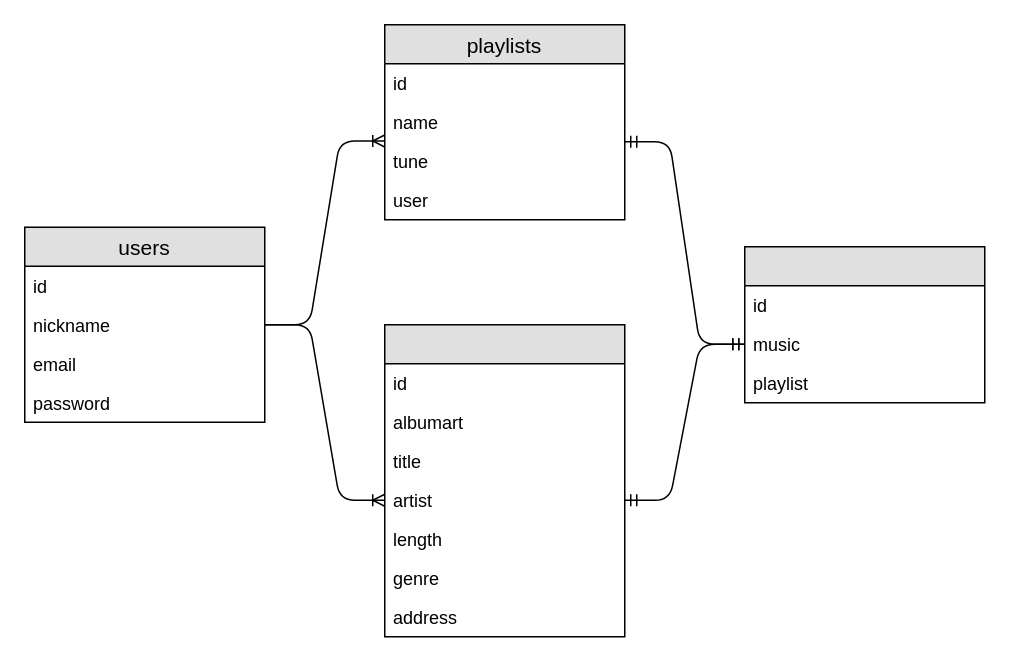
Some shapes in this 1010 by 662 pixel diagram are drawn without their labels. The box of each missing label's shape, as (x1, y1, x2, y2) in pixels:
tunes: (383, 323, 625, 637)
tunes-playlists: (743, 245, 985, 403)
